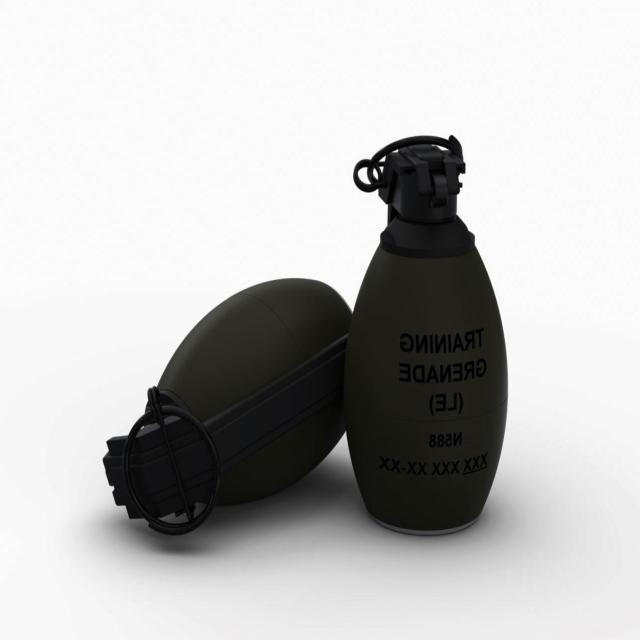grenade: (346, 135, 509, 537), (104, 279, 352, 537)
